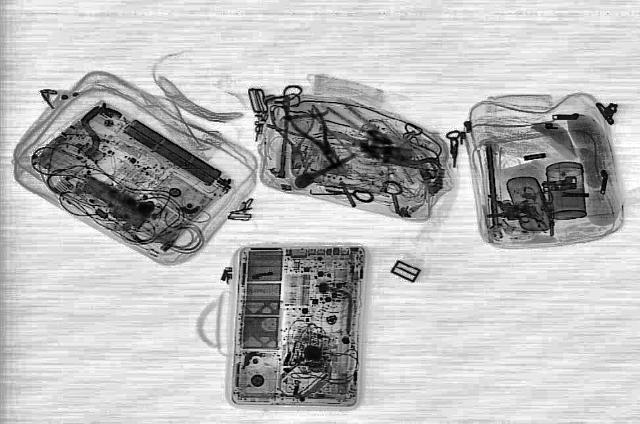Pliers: (280, 104, 358, 174), (268, 108, 322, 170)
